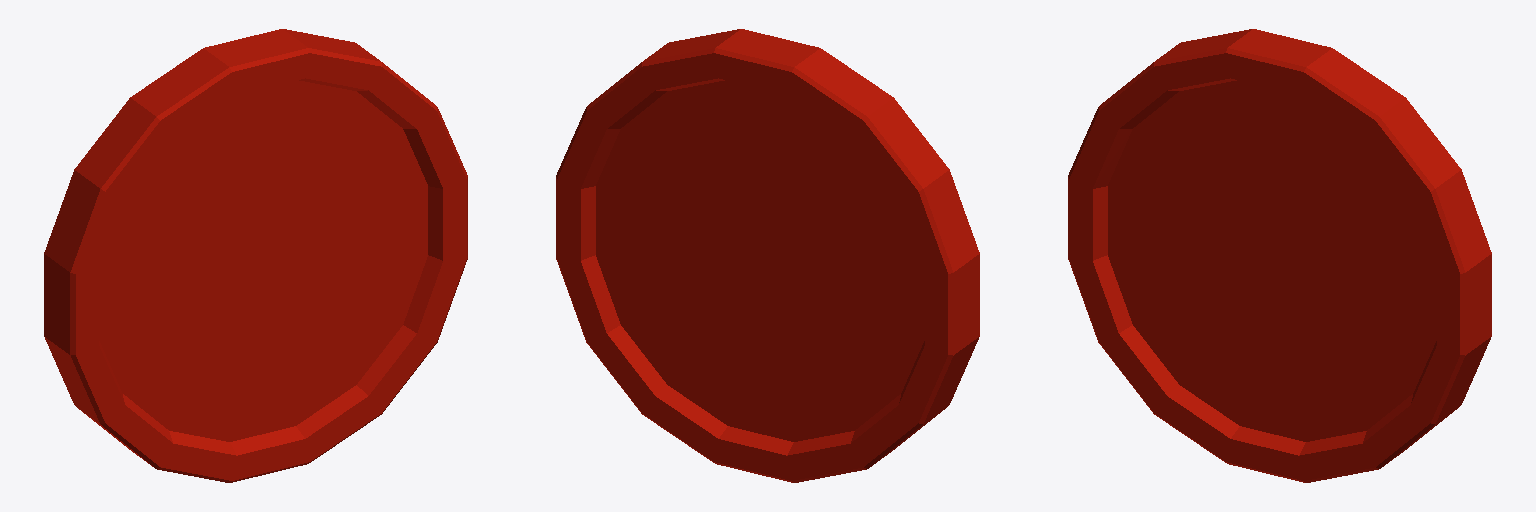
The model's file is currency_1_simple.obj.
3 views of the same model, side by side, from view 1: azimuth 30°, elevation 25°; view 2: azimuth 150°, elevation 25°; view 3: azimuth 330°, elevation 25° (orthographic).
Parts seen in each view (by area): view 1: 0; view 2: 0; view 3: 0.
Boxes of the visible parts, x1,y1,x2,y2 form: 0: [44, 29, 467, 482]; 0: [556, 29, 979, 482]; 0: [1068, 29, 1491, 482].
Bounding box in the file's own units: 0.1155 × 0.1155 × 0.0152.